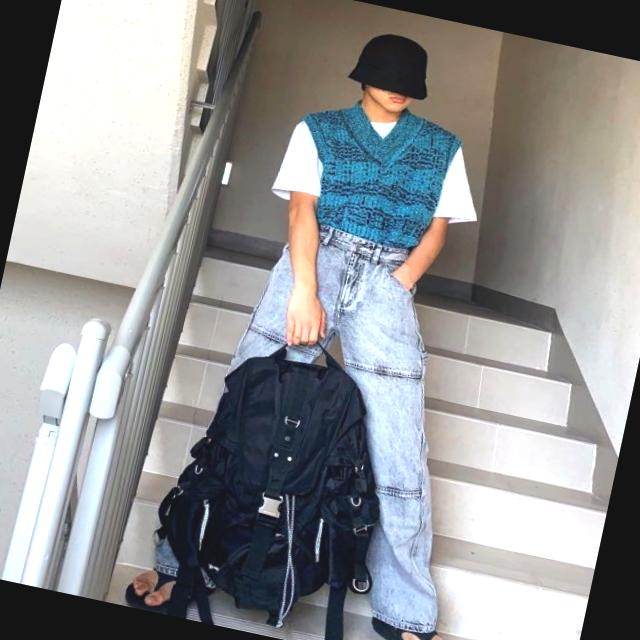denimpants: (142, 205, 515, 640)
shortsleeve: (265, 87, 494, 261)
